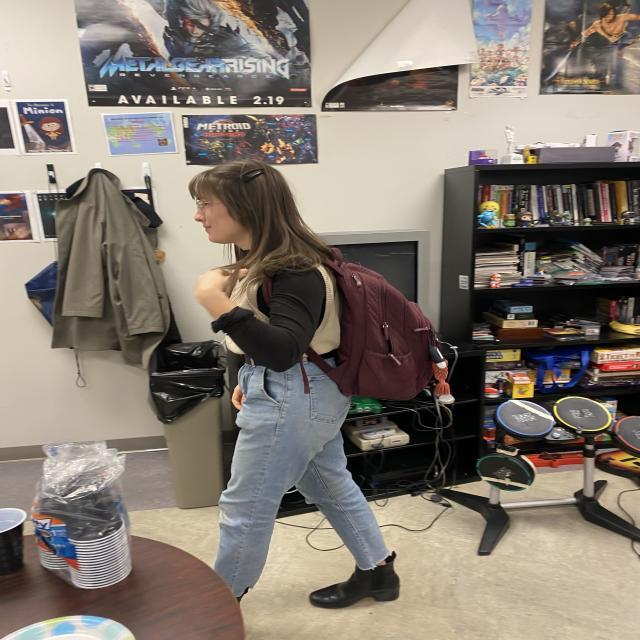Backpacks: (326, 255, 449, 408)
